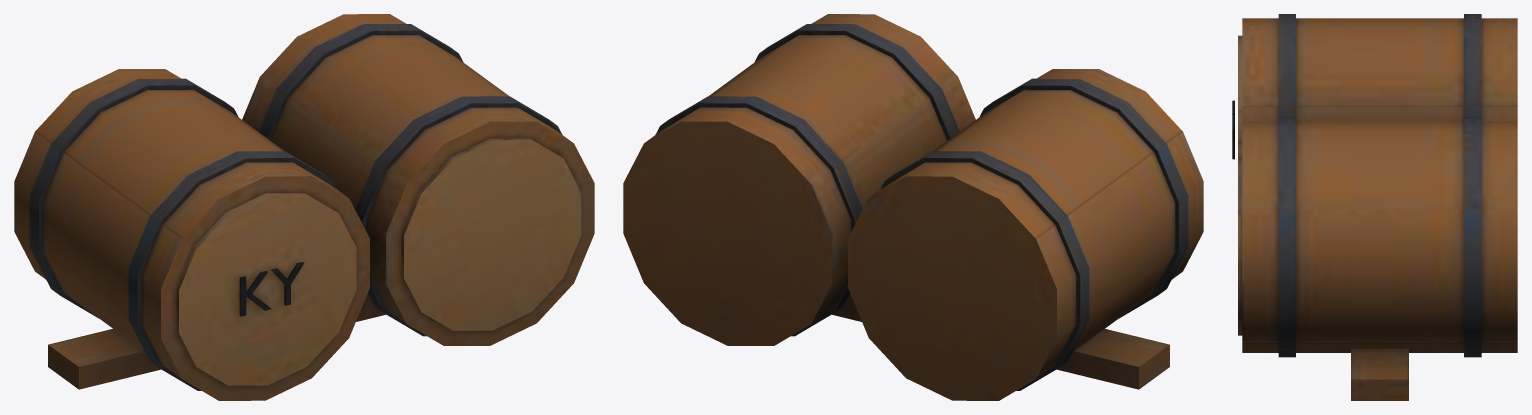
The model's file is barricas_bourbon.glb.
The picture shows the model from 3 angles, left to right: view 1: azimuth 30°, elevation 25°; view 2: azimuth 150°, elevation 25°; view 3: azimuth 270°, elevation 25°; orthographic projection. The views are drawn at different scales.
Parts seen in each view (by area): view 1: barricas_bourbon; view 2: barricas_bourbon; view 3: barricas_bourbon.
Boxes of the visible parts, x1,y1,x2,y2 form: barricas_bourbon: (14, 14, 594, 400); barricas_bourbon: (623, 14, 1203, 400); barricas_bourbon: (1232, 14, 1517, 400).
Size of the model in its own units: 1.8 by 0.83 by 0.985.
Materials: 1 (1 with a texture image).
